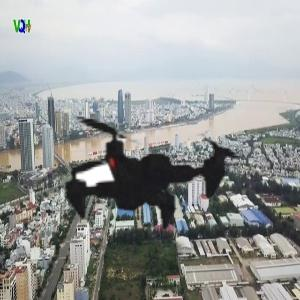drone: (15, 30, 281, 296)
